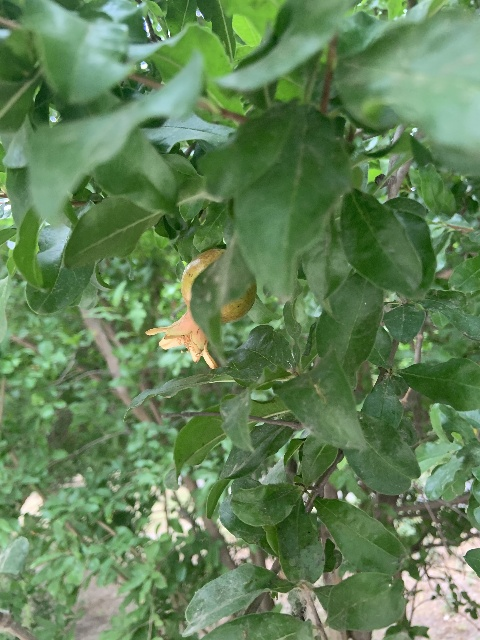early-fruit: (144, 249, 256, 368)
